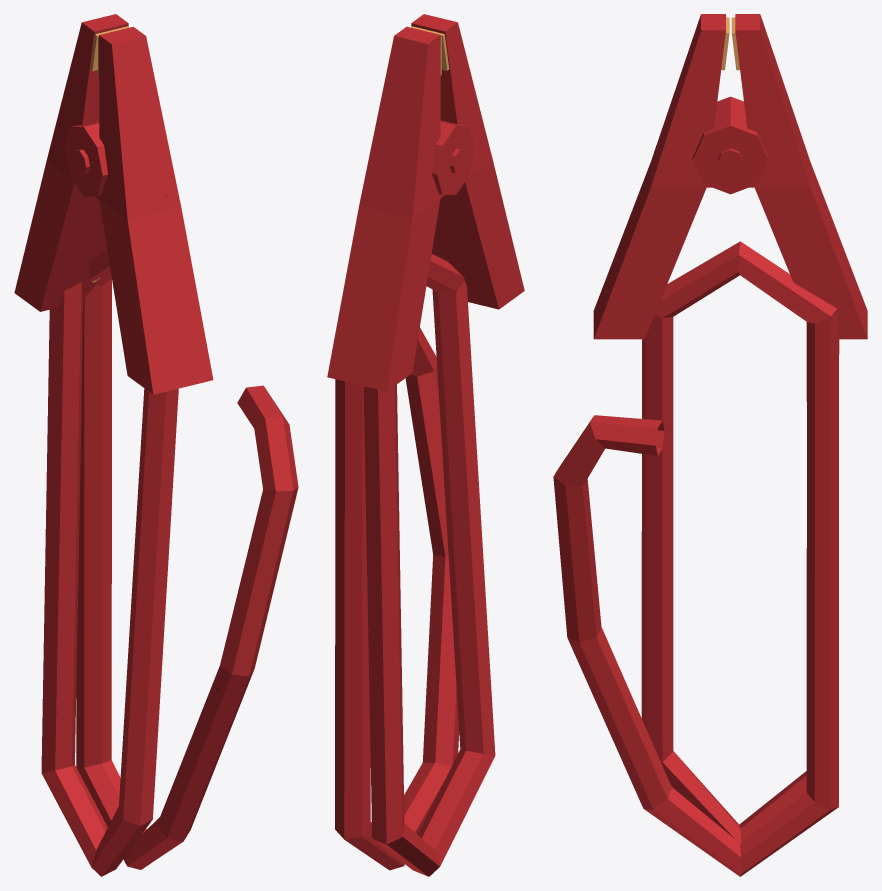
The model's file is Red_Cable_Wrapped.fbx.
3 views of the same model, side by side, from view 1: azimuth 30°, elevation 25°; view 2: azimuth 150°, elevation 25°; view 3: azimuth 270°, elevation 25° (orthographic).
Parts seen in each view (by area): view 1: Red_Cable_Wrapped; view 2: Red_Cable_Wrapped; view 3: Red_Cable_Wrapped.
Boxes of the visible parts, bbox=[...] form: Red_Cable_Wrapped: bbox=[14, 14, 298, 876]; Red_Cable_Wrapped: bbox=[327, 14, 524, 876]; Red_Cable_Wrapped: bbox=[553, 14, 867, 876].
Bounding box in the file's own units: 19.55 × 103 × 34.87.
